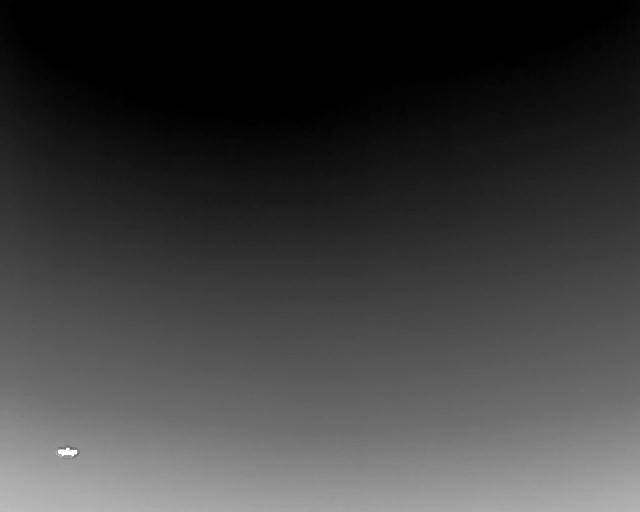fpv-drone: (56, 445, 79, 459)
